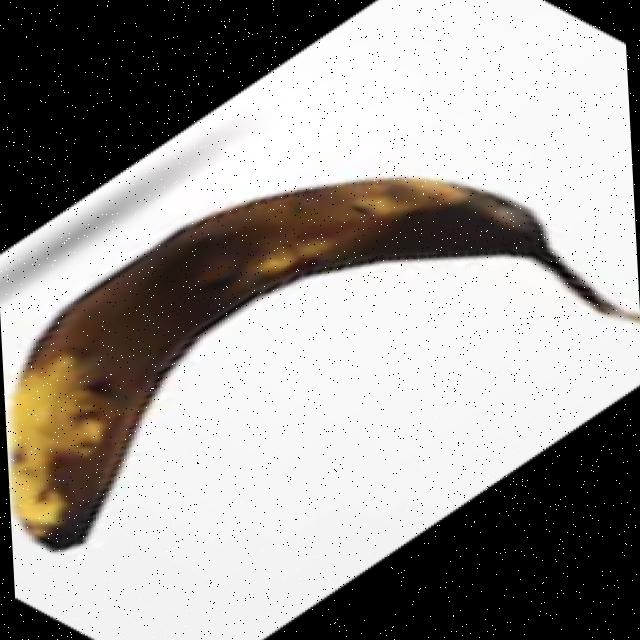Rotten: (0, 168, 629, 556)
